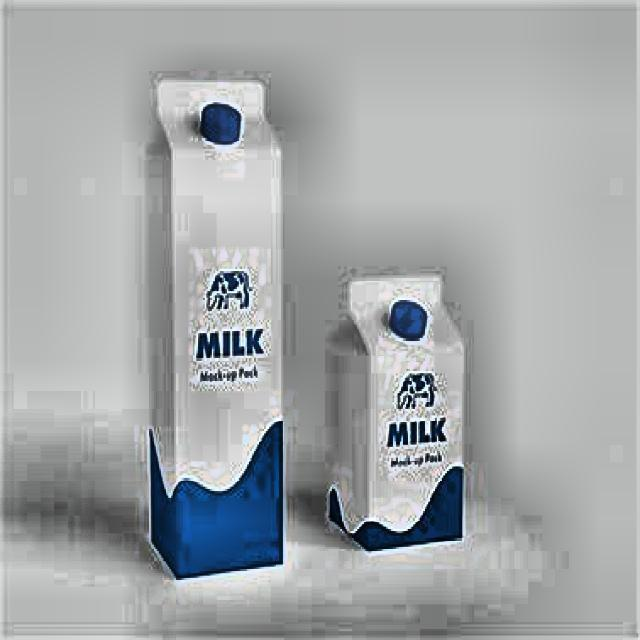cardboard: (148, 75, 284, 578), (327, 271, 464, 551)
